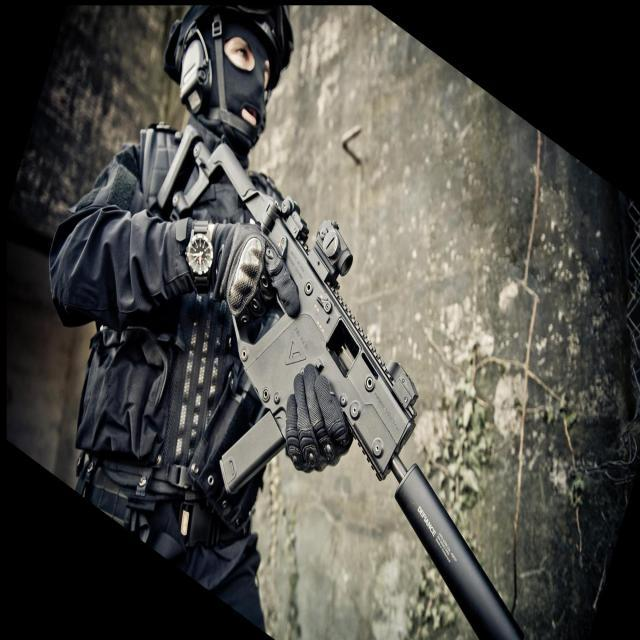weapon: (155, 124, 522, 640)
